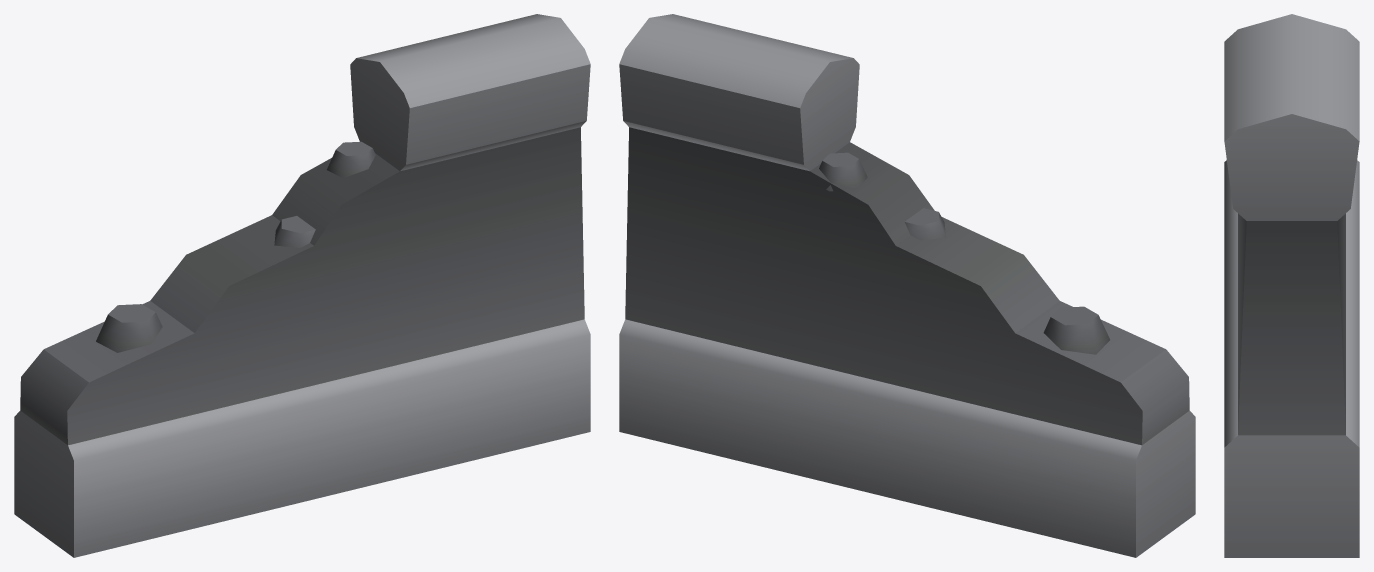
File: stone-wall-damaged.glb
3 renders of one model, left to right at view 1: azimuth 30°, elevation 25°; view 2: azimuth 150°, elevation 25°; view 3: azimuth 270°, elevation 25°, orthographic. The views are drawn at different scales.
Visible parts, largest first — view 1: stone-wall-damaged; view 2: stone-wall-damaged; view 3: stone-wall-damaged.
Part boxes in pixels (box(x1,y1,x2,y2)): stone-wall-damaged: box(14, 14, 590, 557); stone-wall-damaged: box(619, 14, 1195, 557); stone-wall-damaged: box(1224, 14, 1359, 557).
Size of the model in its own units: 1.5 by 1.09 by 0.3.
1 material, 1 textured.
